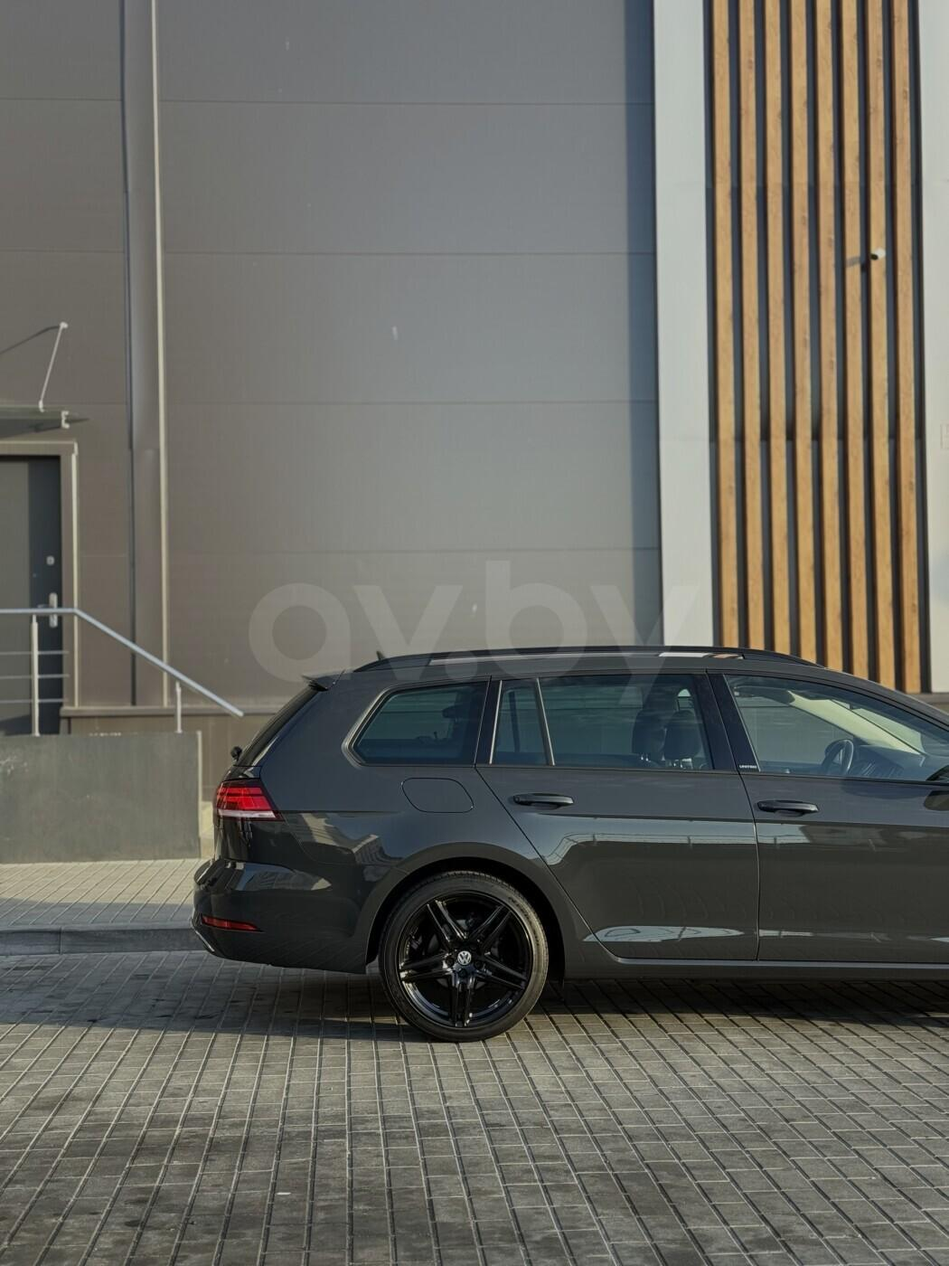Golf_2017-2021: (199, 638, 949, 1045)
